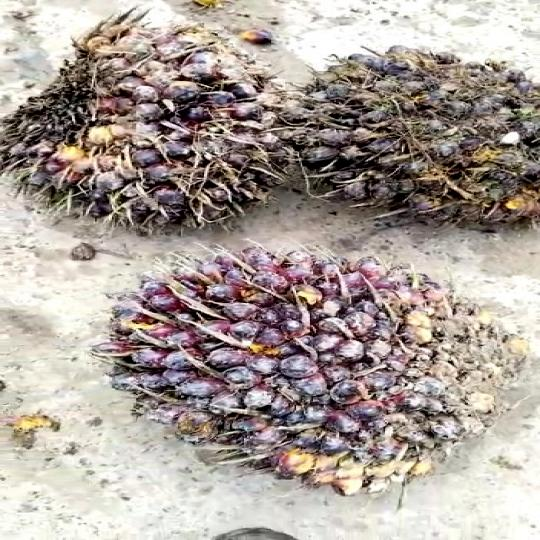kurang masak: (103, 255, 504, 492), (264, 36, 540, 248), (25, 23, 272, 232)
